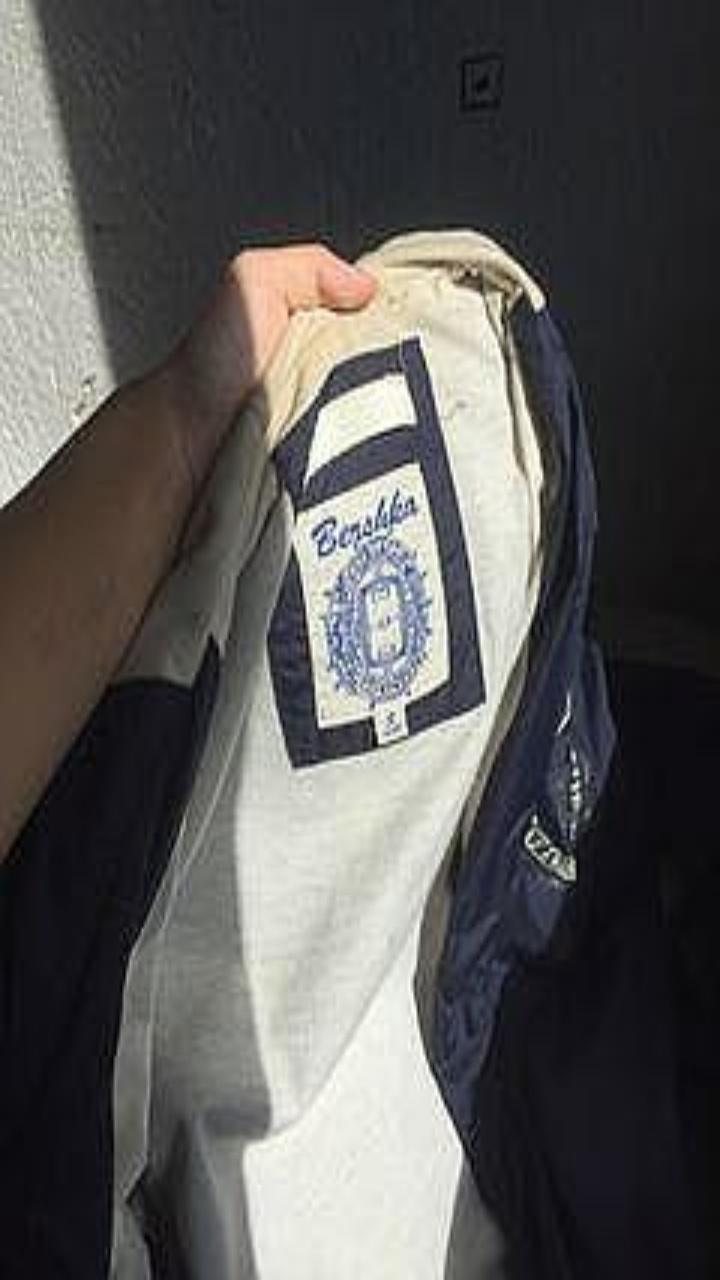Sports_Jacket: (0, 230, 699, 1279)
